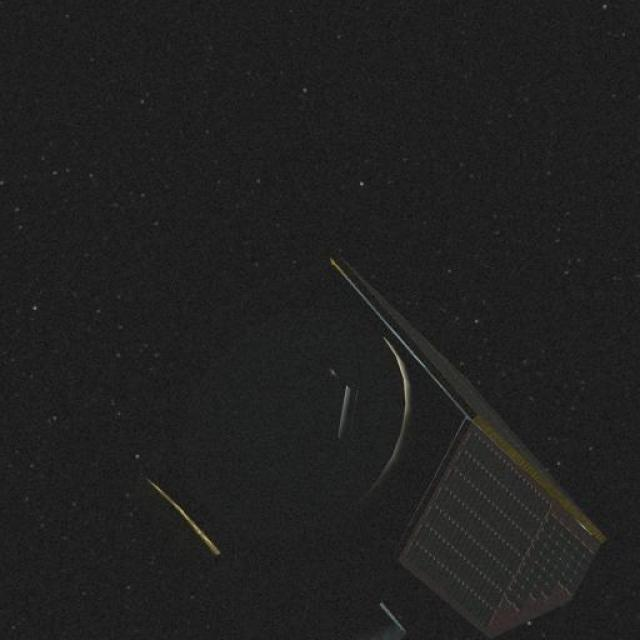cheops: (137, 257, 598, 640)
